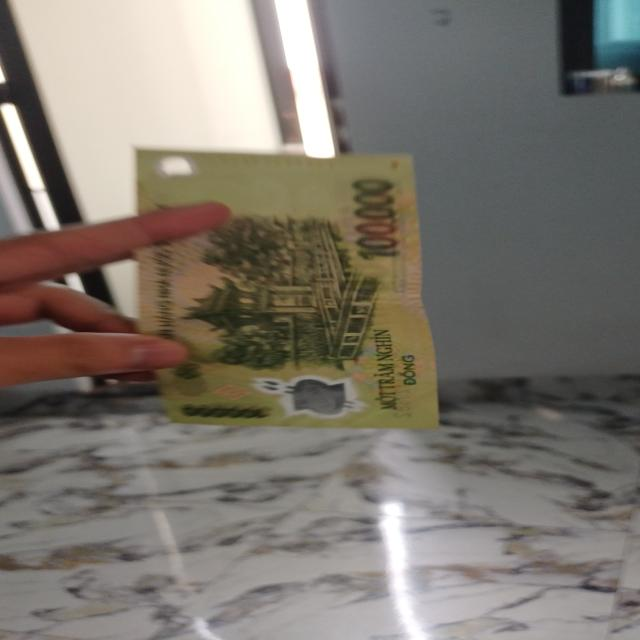100 000 VND: (128, 146, 444, 431)
